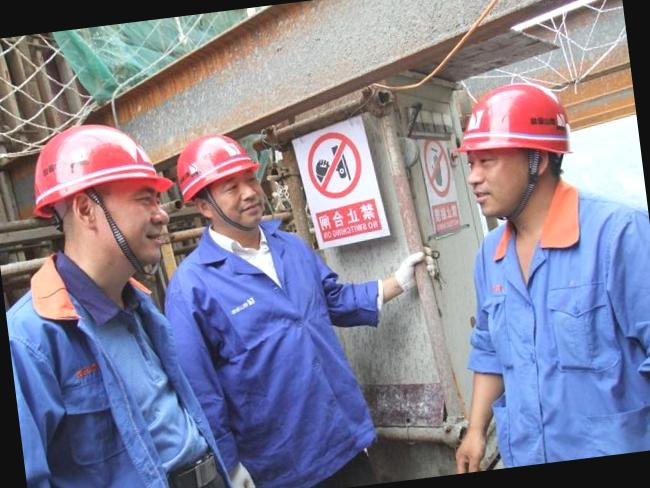helmet: (24, 107, 178, 207), (446, 70, 578, 158), (168, 124, 267, 209)
no_vest: (448, 185, 650, 470), (173, 210, 361, 488), (3, 271, 201, 488)
person: (411, 71, 650, 473), (151, 118, 370, 488), (0, 111, 211, 488)
